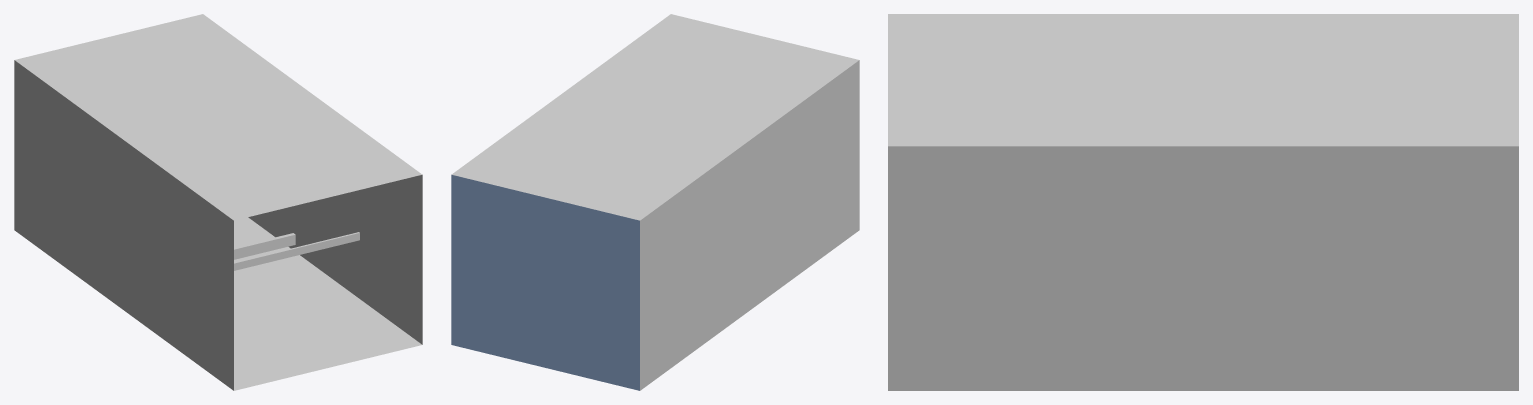
Rendered from nov10.glb.
3 views of the same model, side by side, from view 1: azimuth 30°, elevation 25°; view 2: azimuth 150°, elevation 25°; view 3: azimuth 270°, elevation 25° (orthographic). The views are drawn at different scales.
Parts seen in each view (by area): view 1: nov10; view 2: nov10; view 3: nov10.
Part boxes in pixels (bbox=[...]): nov10: bbox=[14, 14, 422, 390]; nov10: bbox=[451, 14, 859, 390]; nov10: bbox=[888, 14, 1518, 390].
Bounding box in the file's own units: 3.86 × 3.33 × 7.78.
